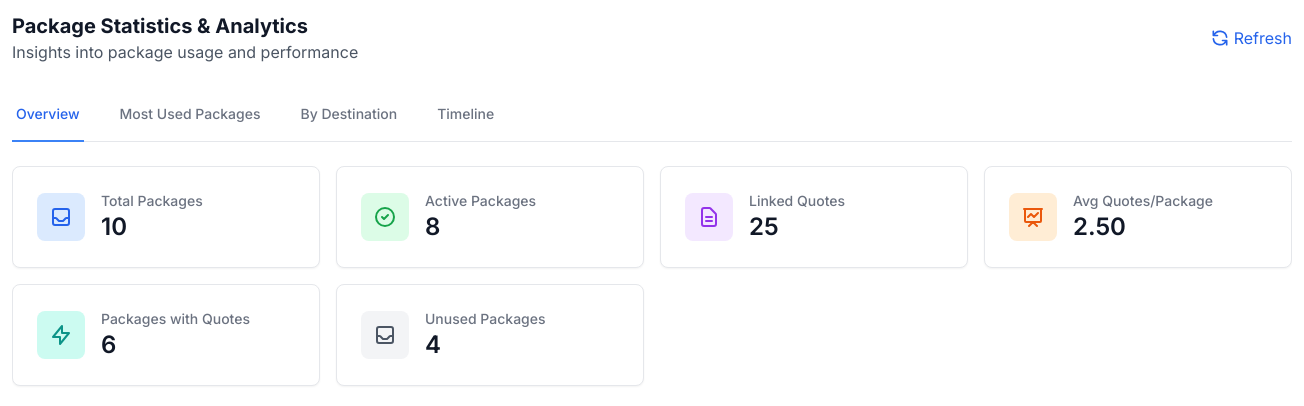
Test case: SuperPackageStatistics › should handle empty timeline data
The width and height of the screenshot is (1304, 406).
expect the heading "Package Statistics & Analytics" is shown: met, box x1=12 y1=12 x2=358 y2=40
Switch to timeline tab
Click the button "Timeline". click: [466, 115]
box: x1=433 y1=88 x2=498 y2=142
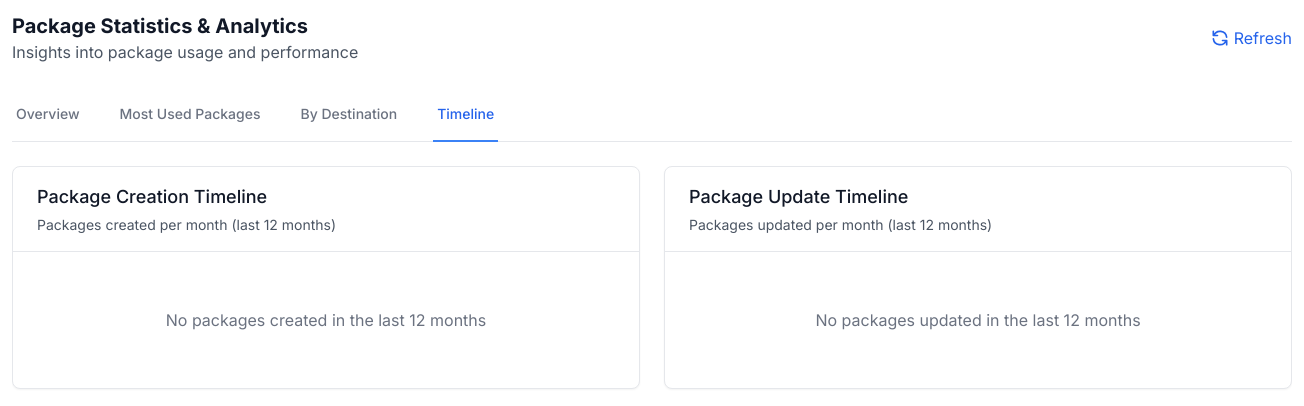
expect the text "No packages created in the last 12 months" is shown: met, box x1=166 y1=310 x2=486 y2=330
expect the text "No packages updated in the last 12 months" is shown: met, box x1=815 y1=310 x2=1141 y2=330
